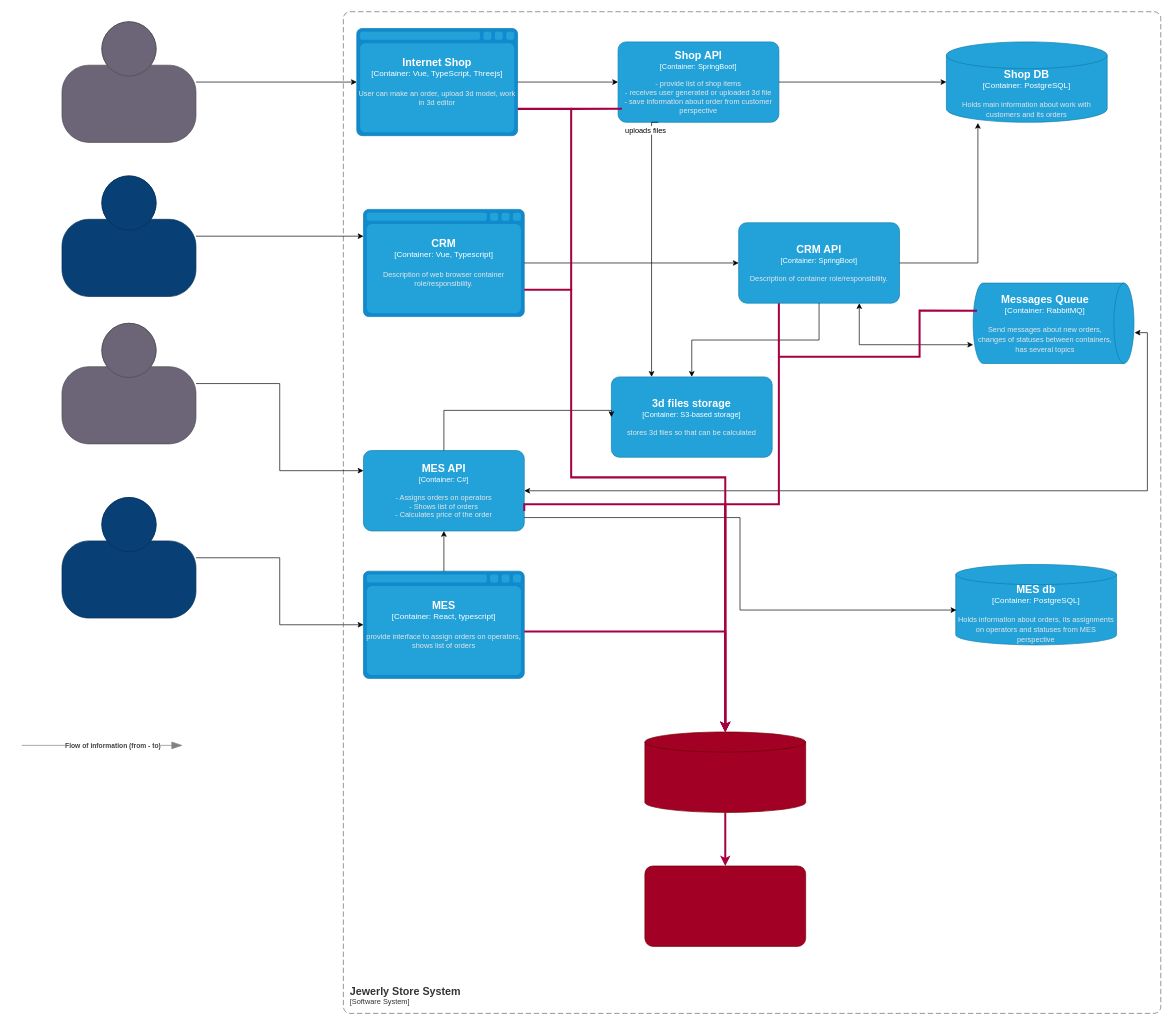
Some shapes in this 1173 by 1025 pixel diagram are drawn without their labels. Each missing label, with the box of its shape:
API user [Person] Description of external person.: (61, 323, 196, 444)
Customer [Person] Description of external person.: (61, 21, 196, 142)
Jaeger [Container: Jaeger] Collect data traces: (644, 731, 806, 812)
Jaeger UI [Container: Web] display data trace: (644, 865, 806, 946)
Operator [Person] Takes order in work, manufactures jewerly: (61, 497, 196, 618)
Seller [Person] Operates with order, confirms manufacturing for the user: (61, 175, 196, 296)
